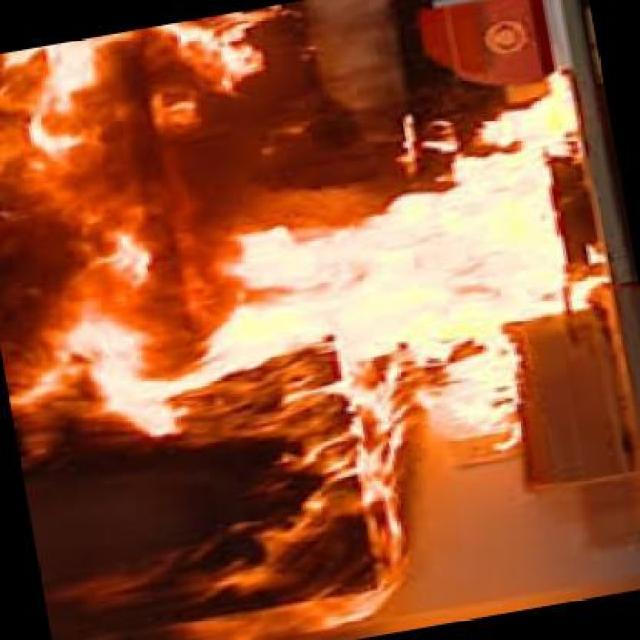Fire: (0, 74, 600, 570)
